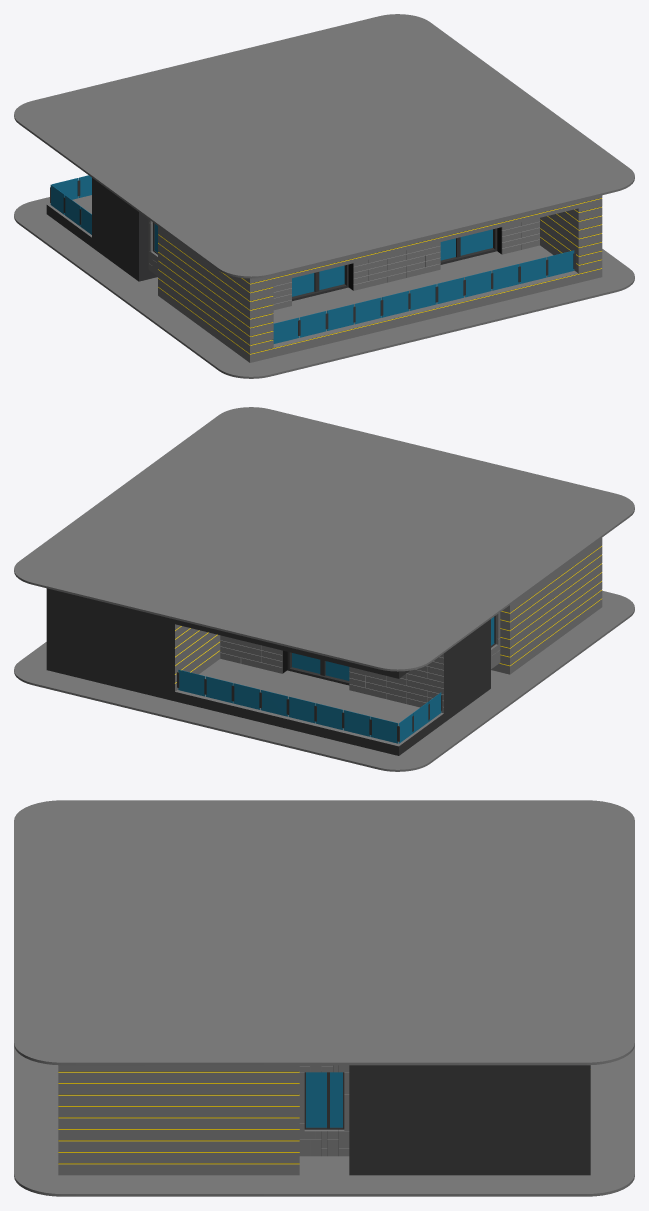
The model's file is SM_MK11_Middle_001.fbx.
3 views of the same model, one above another, from view 1: azimuth 30°, elevation 25°; view 2: azimuth 150°, elevation 25°; view 3: azimuth 270°, elevation 25° (orthographic). The views are drawn at different scales.
Visible parts, largest first — view 1: SM_MK11_Middle_001; view 2: SM_MK11_Middle_001; view 3: SM_MK11_Middle_001.
Boxes of the visible parts, x1,y1,x2,y2 form: SM_MK11_Middle_001: (14, 14, 634, 378); SM_MK11_Middle_001: (14, 407, 634, 771); SM_MK11_Middle_001: (14, 800, 634, 1196).
Size of the model in its own units: 2100 by 500 by 2100.
